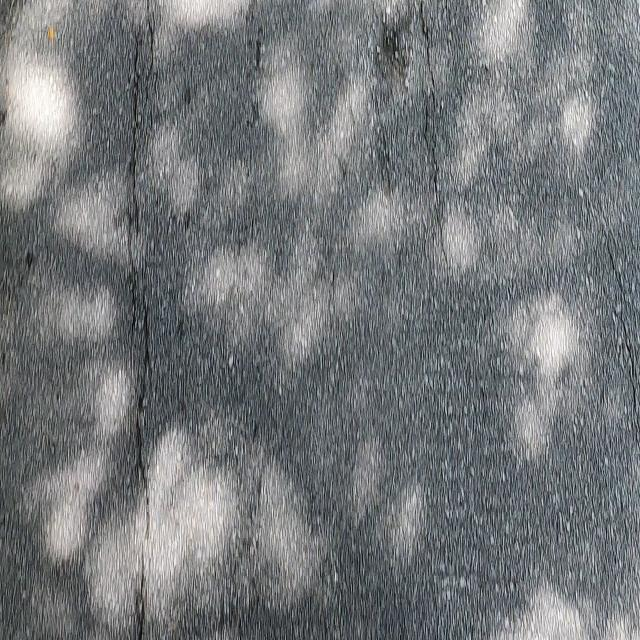Retak-Memanjang: (124, 12, 156, 636)
